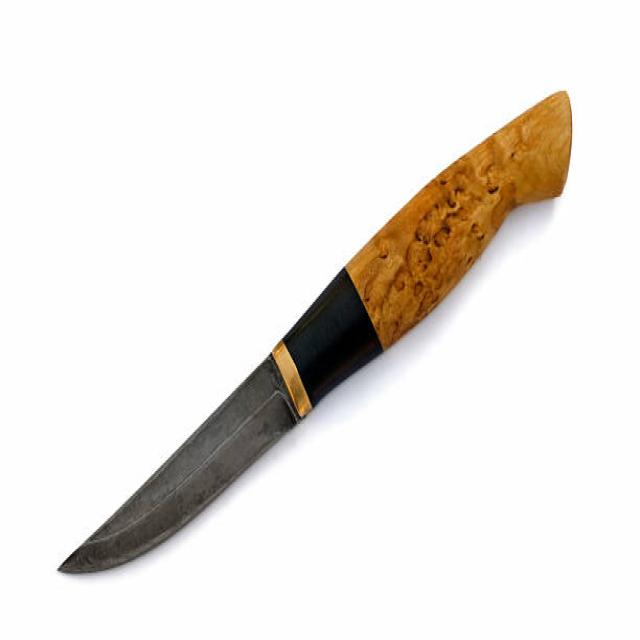knife: (46, 69, 586, 587)
